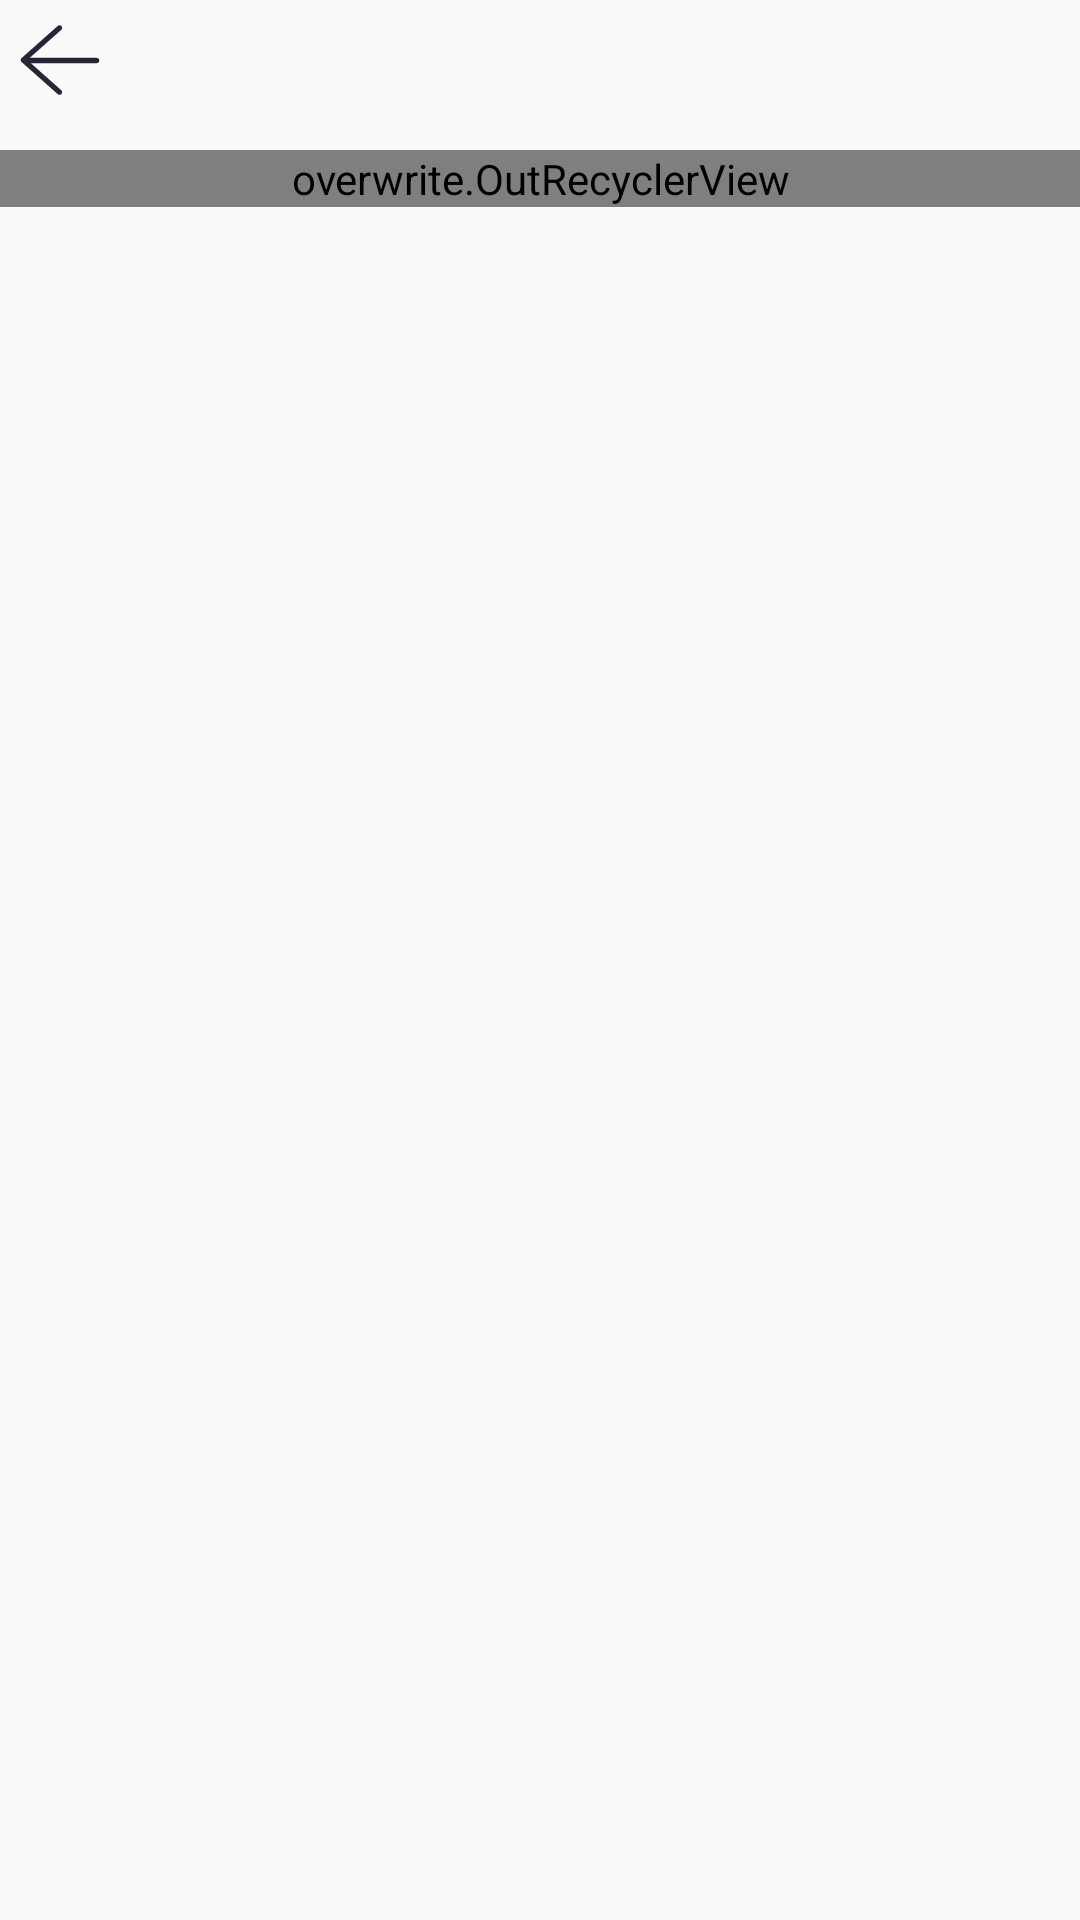

Icon bounding boxes for this 1080px x 1920px phone screenshot, format region(x1, y1, x2, y2):
back: region(20, 25, 100, 95)
